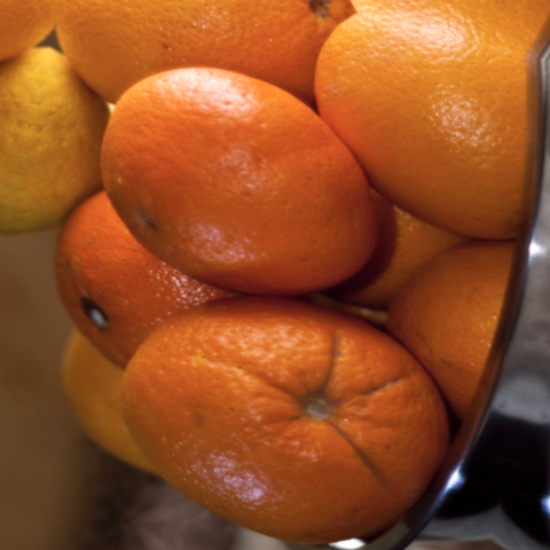orange: (13, 26, 422, 347), (81, 256, 499, 550)
